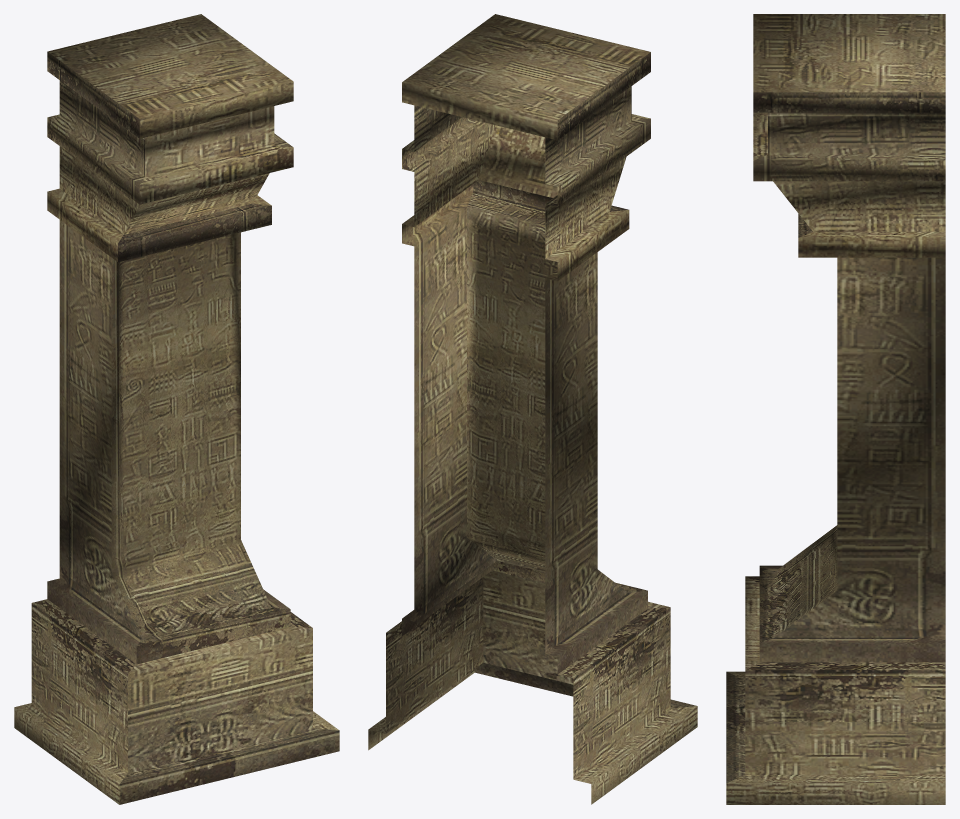
Rendered from S_Build_Xsc052.FBX.
3 renders of one model, left to right at view 1: azimuth 30°, elevation 25°; view 2: azimuth 150°, elevation 25°; view 3: azimuth 270°, elevation 25°, orthographic. The views are drawn at different scales.
Visible parts, largest first — view 1: S_Build_Xsc052; view 2: S_Build_Xsc052; view 3: S_Build_Xsc052.
Part boxes in pixels (box(x1,y1,x2,y2)): S_Build_Xsc052: box(14, 14, 339, 804); S_Build_Xsc052: box(368, 14, 697, 804); S_Build_Xsc052: box(726, 14, 945, 804).
Bounding box in the file's own units: 87.52 × 72.44 × 254.
